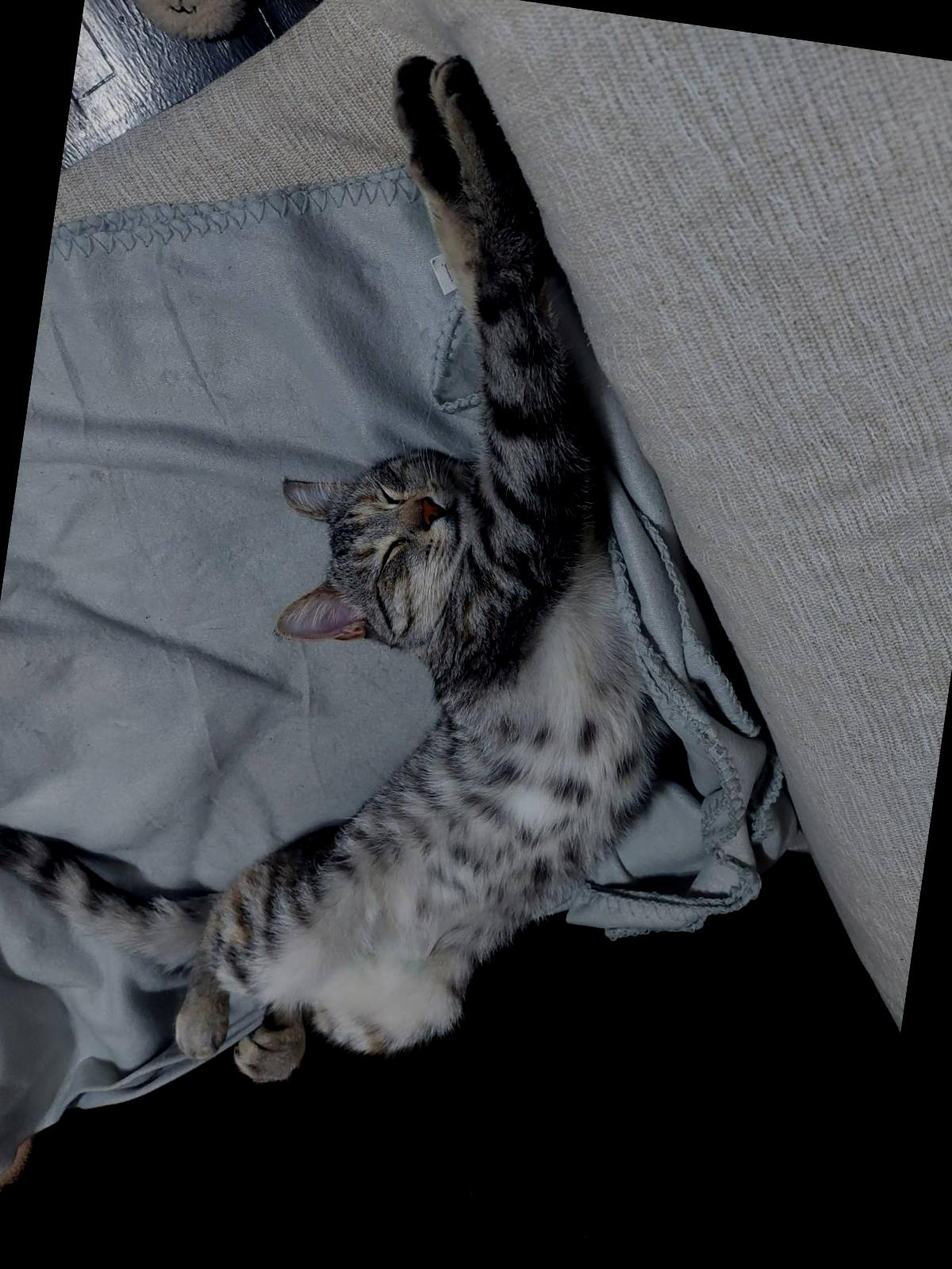macka: (0, 3, 746, 1140)
